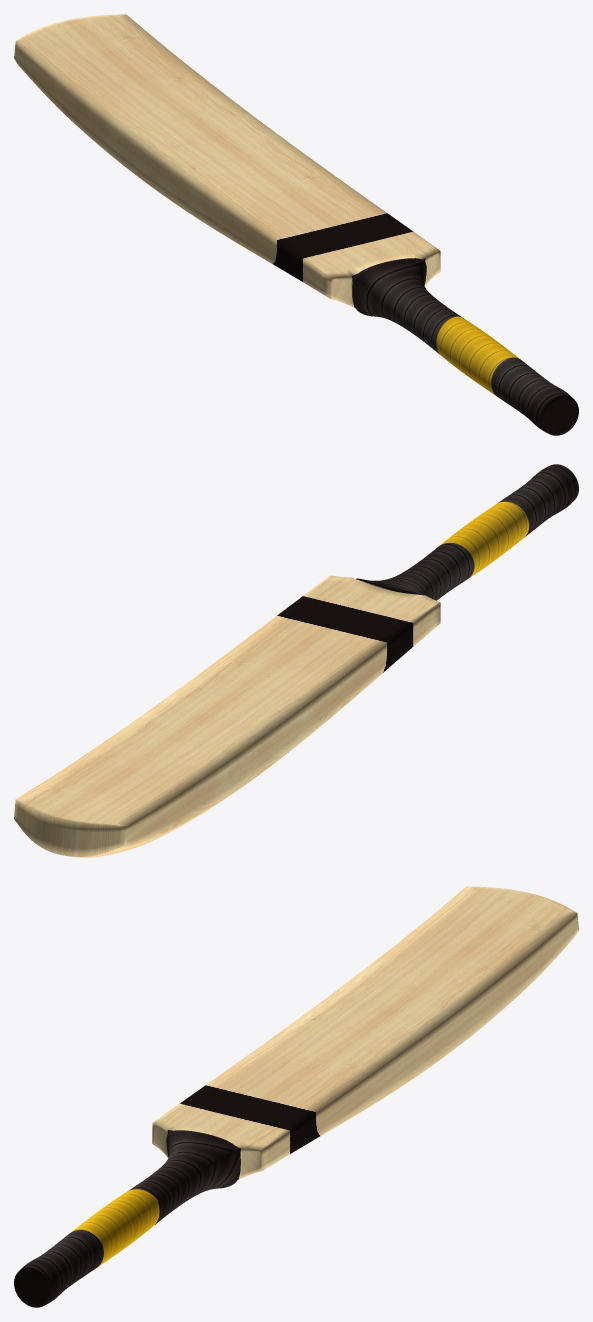
Rendered from cricketBat.obj.
3 views of the same model, one above another, from view 1: azimuth 30°, elevation 25°; view 2: azimuth 150°, elevation 25°; view 3: azimuth 330°, elevation 25° (orthographic).
Visible parts, largest first — view 1: 11716_bat_sg; view 2: 11716_bat_sg; view 3: 11716_bat_sg.
Part boxes in pixels (left/top/right/bottom): 11716_bat_sg: left=14, top=14, right=578, bottom=435; 11716_bat_sg: left=14, top=464, right=578, bottom=857; 11716_bat_sg: left=14, top=886, right=578, bottom=1307.
Bounding box in the file's own units: 12.81 × 8.63 × 101.
